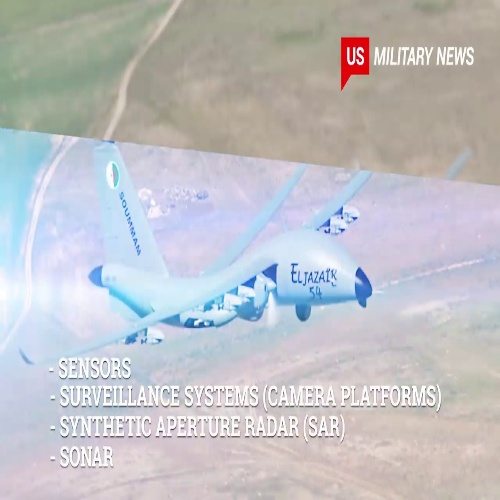uav66: (13, 146, 377, 349)
